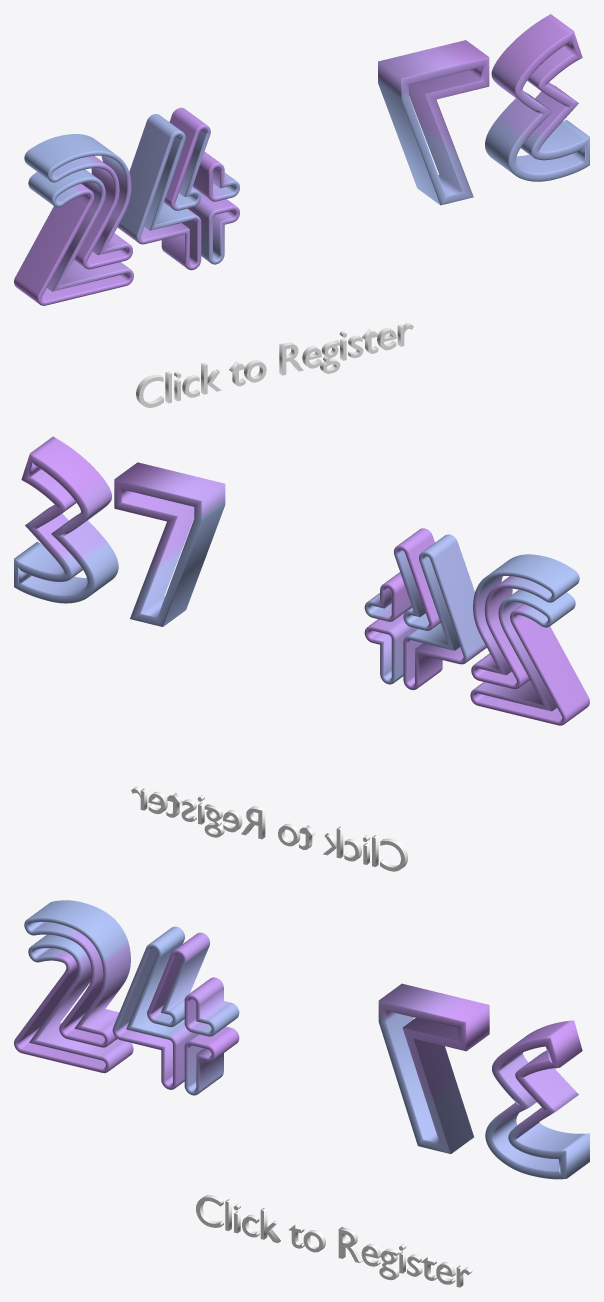
Rendered from 08March2024-v21-animation.glb.
3 views of the same model, one above another, from view 1: azimuth 30°, elevation 25°; view 2: azimuth 150°, elevation 25°; view 3: azimuth 330°, elevation 25° (orthographic).
Parts seen in each view (by area): view 1: Text.001, Text.003, Text.004; view 2: Text.001, Text.003, Text.004; view 3: Text.001, Text.003, Text.004.
Boxes of the visible parts, box(x1,y1,x2,y2) form: Text.001: box(14, 107, 239, 305); Text.003: box(378, 14, 589, 205); Text.004: box(136, 322, 413, 407); Text.001: box(364, 528, 589, 725); Text.003: box(14, 436, 225, 626); Text.004: box(131, 786, 407, 871); Text.001: box(14, 900, 239, 1095); Text.003: box(378, 983, 589, 1179); Text.004: box(196, 1195, 472, 1287).
Size of the model in its own units: 4.14 by 2.3 by 0.572.
Materials: 3 (2 with a texture image).
